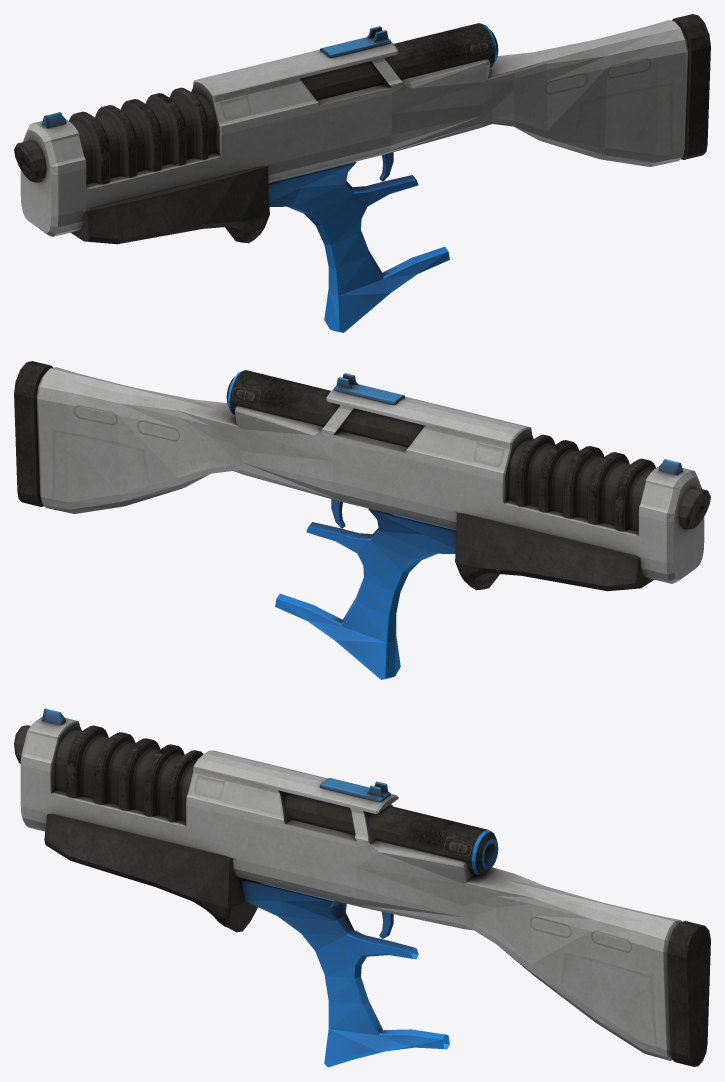
File: smg.obj
3 views of the same model, one above another, from view 1: azimuth 30°, elevation 25°; view 2: azimuth 150°, elevation 25°; view 3: azimuth 330°, elevation 25° (orthographic).
Visible parts, largest first — view 1: thing_that_spins_correctly; view 2: thing_that_spins_correctly; view 3: thing_that_spins_correctly.
Part boxes in pixels (bbox=[...]): thing_that_spins_correctly: bbox=[14, 14, 710, 332]; thing_that_spins_correctly: bbox=[14, 361, 710, 679]; thing_that_spins_correctly: bbox=[14, 708, 710, 1067].
Size of the model in its own units: 28.39 by 11.61 by 3.87.
1 material, 1 textured.
